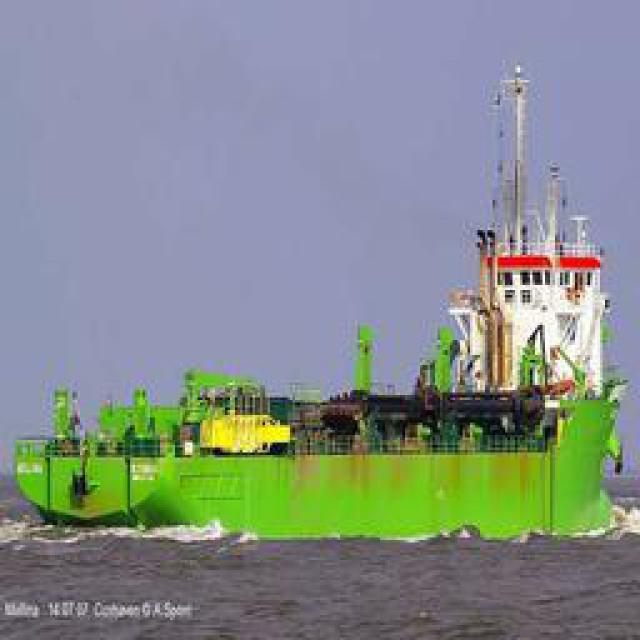Ship: (15, 54, 619, 545)
